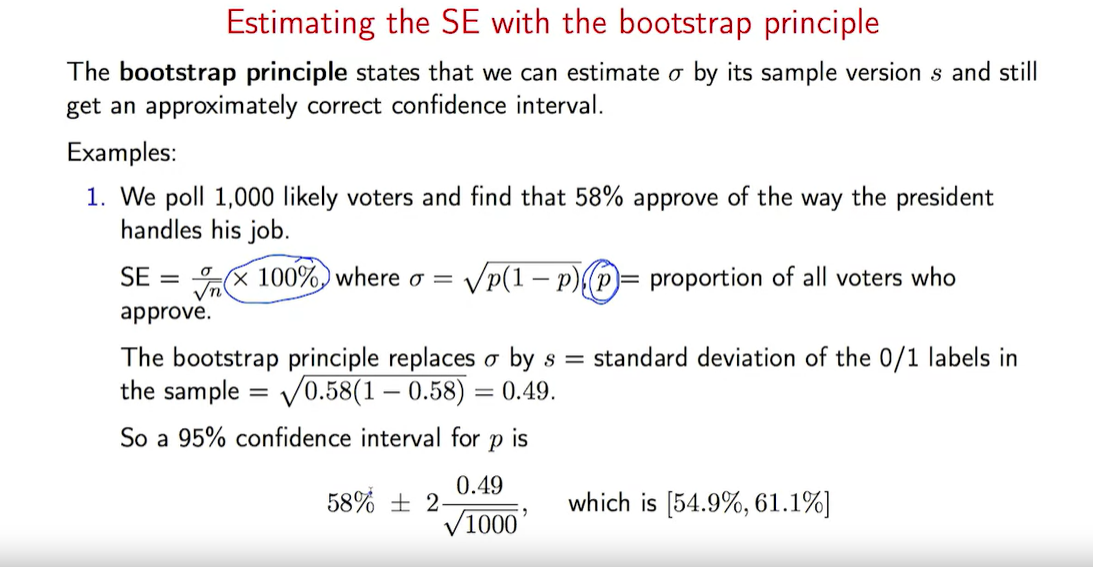equation: (120, 257, 959, 328), (324, 467, 842, 538), (117, 374, 565, 411), (545, 344, 692, 371)
text: (64, 56, 1040, 120), (117, 183, 996, 247), (222, 2, 881, 43), (115, 421, 538, 458), (121, 338, 539, 370), (696, 344, 1018, 371), (66, 140, 175, 165)
